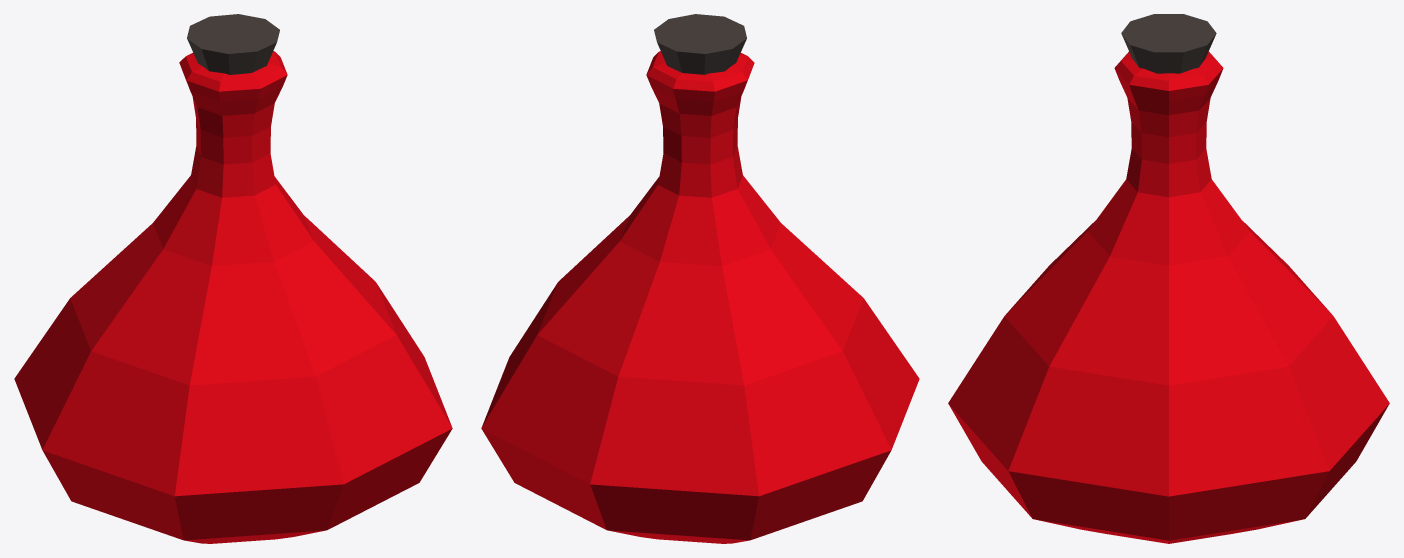
The model's file is Health_Potion_002.fbx.
3 renders of one model, left to right at view 1: azimuth 30°, elevation 25°; view 2: azimuth 150°, elevation 25°; view 3: azimuth 270°, elevation 25°, orthographic.
Visible parts, largest first — view 1: Health Potion.002; view 2: Health Potion.002; view 3: Health Potion.002.
Boxes of the visible parts, x1=… form: Health Potion.002: x1=14, y1=14, x2=452, y2=543; Health Potion.002: x1=481, y1=14, x2=919, y2=543; Health Potion.002: x1=948, y1=14, x2=1389, y2=543.
Bounding box in the file's own units: 34.38 × 40.73 × 34.38.
